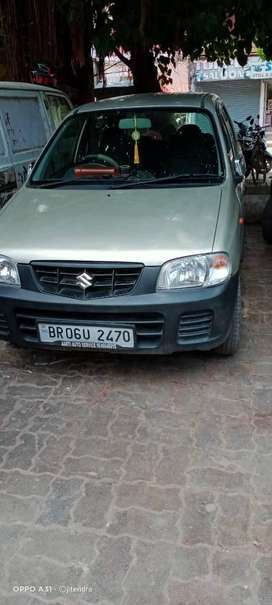BR06U2470: (37, 322, 134, 351)
